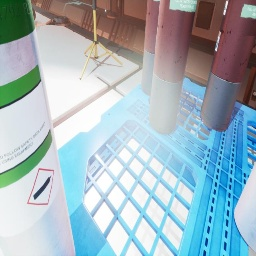0: (0, 0, 76, 256), (234, 161, 256, 253)
NitrogenTank ,: (200, 0, 256, 131), (149, 0, 198, 134), (141, 0, 160, 96), (32, 7, 36, 21)
